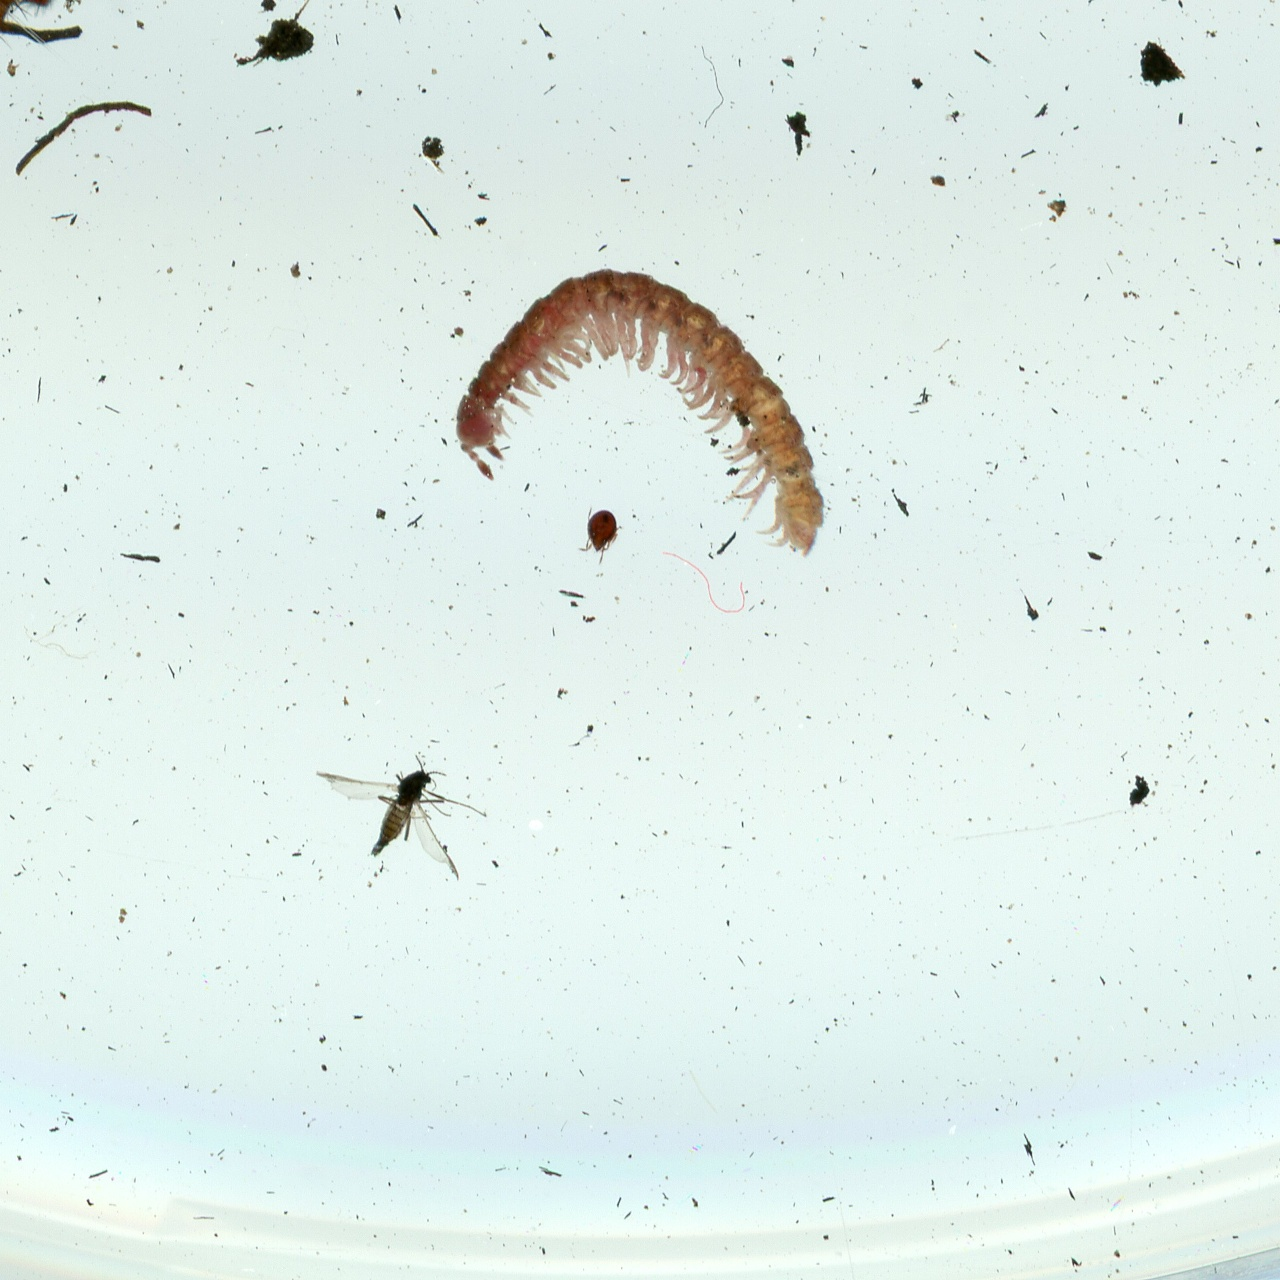arthropod: (449, 265, 828, 561), (310, 749, 491, 887), (573, 505, 622, 567)
